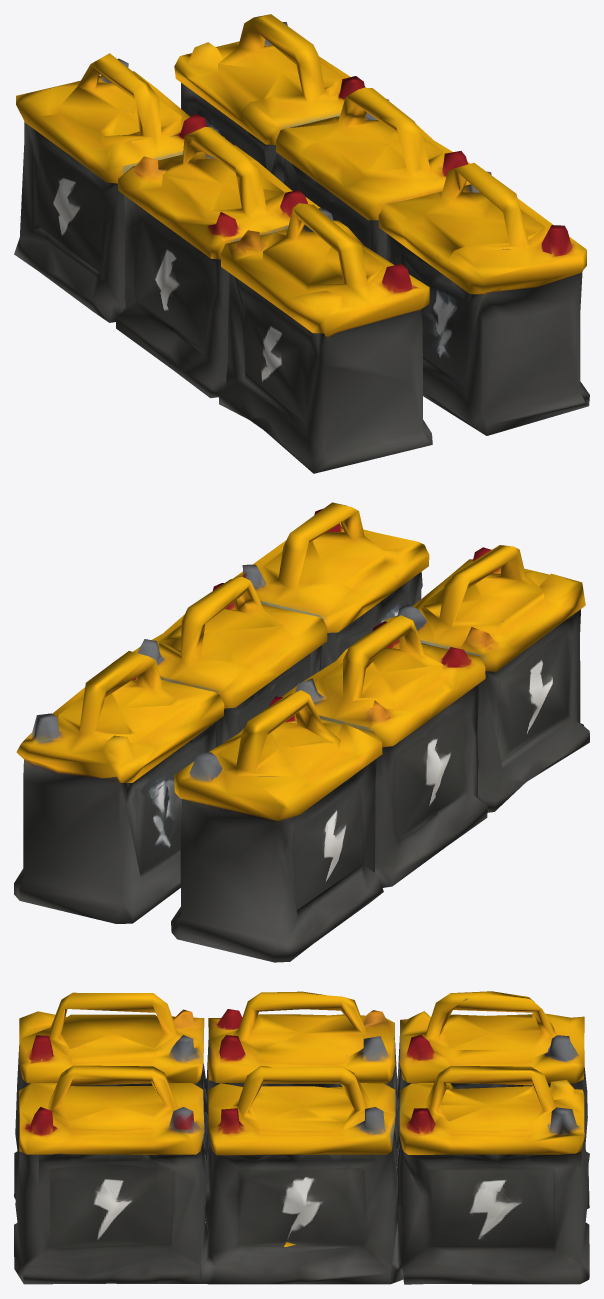
The model's file is bateria.glb.
3 renders of one model, top to bottom at view 1: azimuth 30°, elevation 25°; view 2: azimuth 150°, elevation 25°; view 3: azimuth 270°, elevation 25°, orthographic. The views are drawn at different scales.
Parts seen in each view (by area): view 1: tripo_node_cbc4aa80-3766-43ad-aa75-4bf9ea8509cd; view 2: tripo_node_cbc4aa80-3766-43ad-aa75-4bf9ea8509cd; view 3: tripo_node_cbc4aa80-3766-43ad-aa75-4bf9ea8509cd.
Boxes of the visible parts, left/top/right/bottom form: tripo_node_cbc4aa80-3766-43ad-aa75-4bf9ea8509cd: left=14, top=14, right=589, bottom=473; tripo_node_cbc4aa80-3766-43ad-aa75-4bf9ea8509cd: left=14, top=502, right=589, bottom=962; tripo_node_cbc4aa80-3766-43ad-aa75-4bf9ea8509cd: left=14, top=991, right=589, bottom=1284.
Bounding box in the file's own units: 0.5157 × 0.3682 × 0.9991.
1 material, 1 textured.
